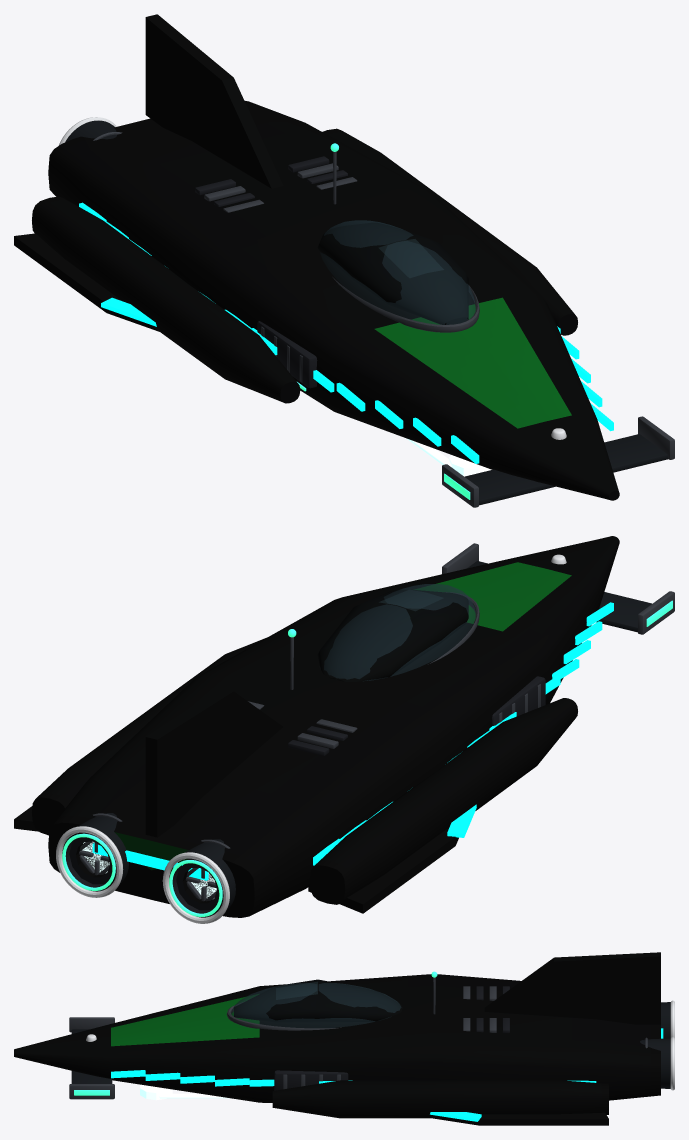
Rendered from shaddai_ship_viper_v01.glb.
3 views of the same model, one above another, from view 1: azimuth 30°, elevation 25°; view 2: azimuth 150°, elevation 25°; view 3: azimuth 270°, elevation 25° (orthographic). The views are drawn at different scales.
Parts seen in each view (by area): view 1: shaddai_ship_viper, shaddai_ship_viper_detail; view 2: shaddai_ship_viper, shaddai_ship_viper_detail, shaddai_ship_viper_thrusters; view 3: shaddai_ship_viper, shaddai_ship_viper_detail, shaddai_ship_viper_thrusters.
Boxes of the visible parts, x1,y1,x2,y2 form: shaddai_ship_viper: [14, 14, 619, 500]; shaddai_ship_viper_detail: [58, 117, 674, 507]; shaddai_ship_viper: [14, 536, 619, 917]; shaddai_ship_viper_detail: [56, 543, 674, 923]; shaddai_ship_viper_thrusters: [69, 658, 575, 910]; shaddai_ship_viper: [14, 952, 663, 1125]; shaddai_ship_viper_detail: [69, 971, 674, 1099]; shaddai_ship_viper_thrusters: [140, 1084, 172, 1100].
Size of the model in its own units: 2.45 by 1.16 by 5.52.
